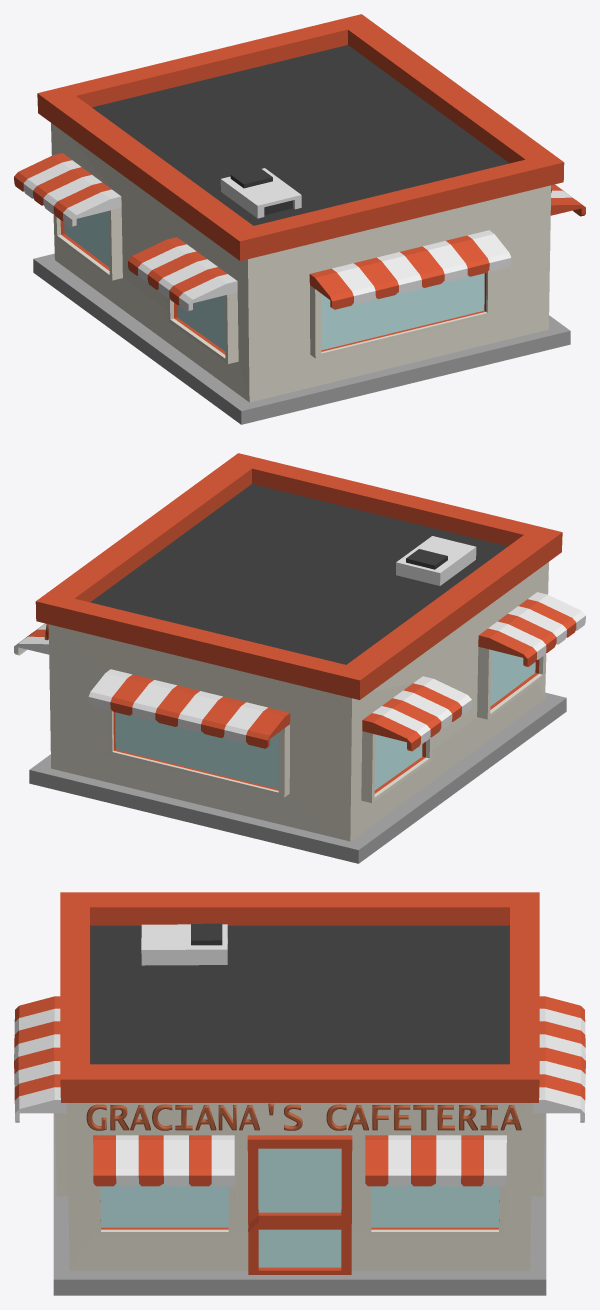
Rendered from Cafeteria.fbx.
3 views of the same model, one above another, from view 1: azimuth 30°, elevation 25°; view 2: azimuth 150°, elevation 25°; view 3: azimuth 270°, elevation 25° (orthographic). The views are drawn at different scales.
Parts seen in each view (by area): view 1: Shop_Cube.006; view 2: Shop_Cube.006; view 3: Shop_Cube.006, Text.015.
Boxes of the visible parts, x1,y1,x2,y2 form: Shop_Cube.006: (14, 14, 585, 424); Shop_Cube.006: (14, 453, 585, 863); Shop_Cube.006: (14, 892, 585, 1295); Text.015: (86, 1103, 521, 1130).
Size of the model in its own units: 691 by 304 by 726.
Materials: 2 (1 with a texture image).
